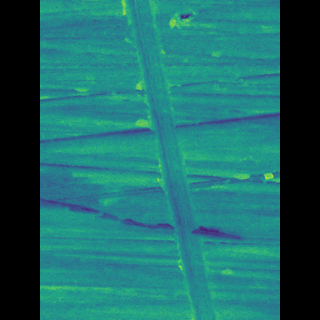Loch: (126, 0, 203, 320), (70, 235, 249, 273), (164, 0, 191, 33)
